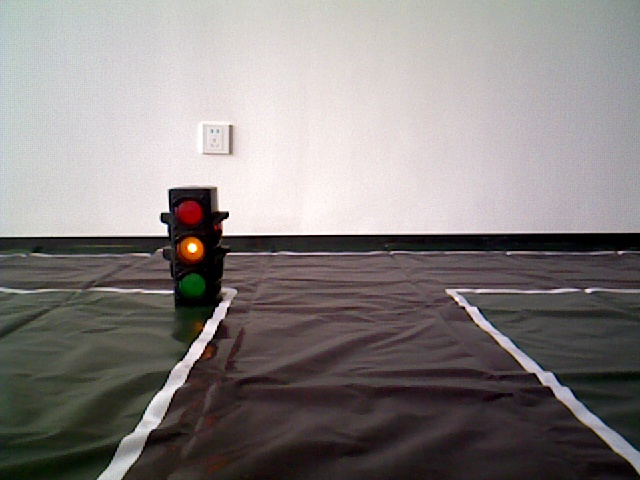yellow: (167, 187, 221, 303)
